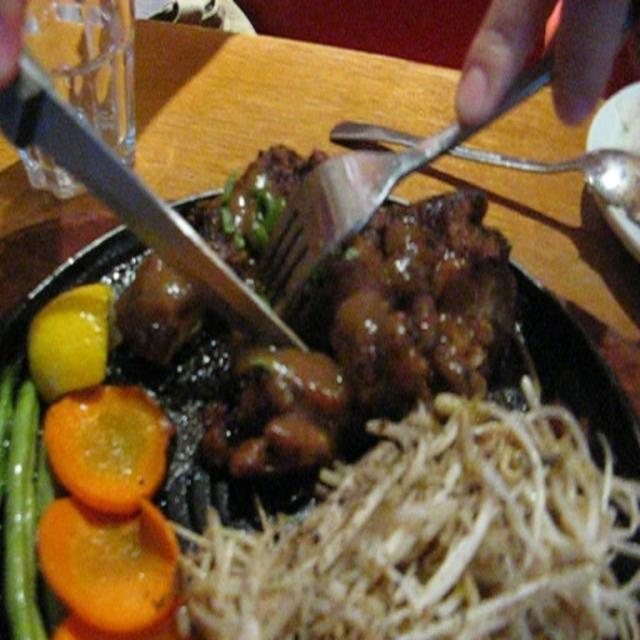Lemon: (29, 281, 116, 403)
